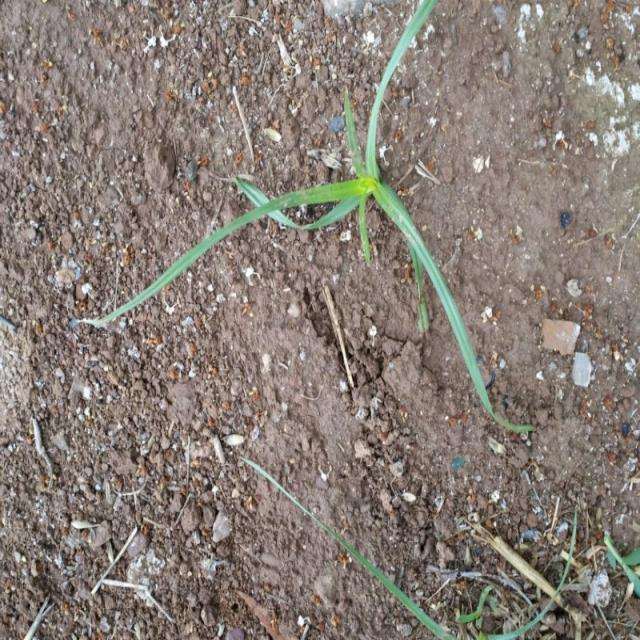sedge: (64, 58, 534, 438)
